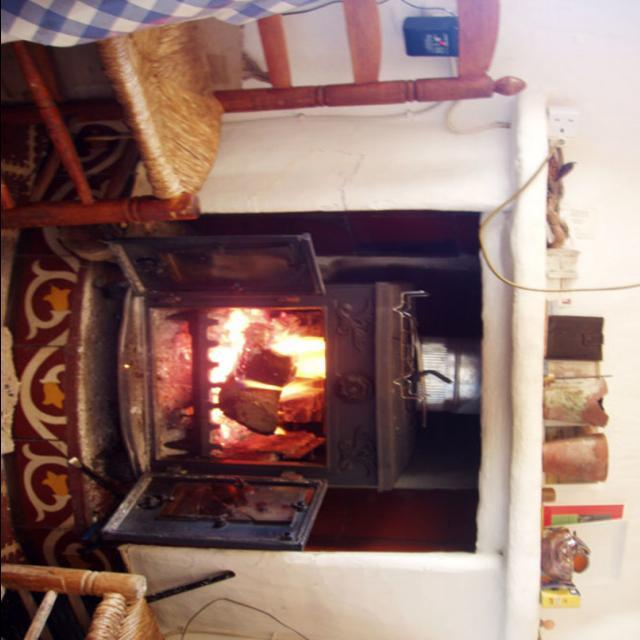Fire: (205, 306, 324, 456)
